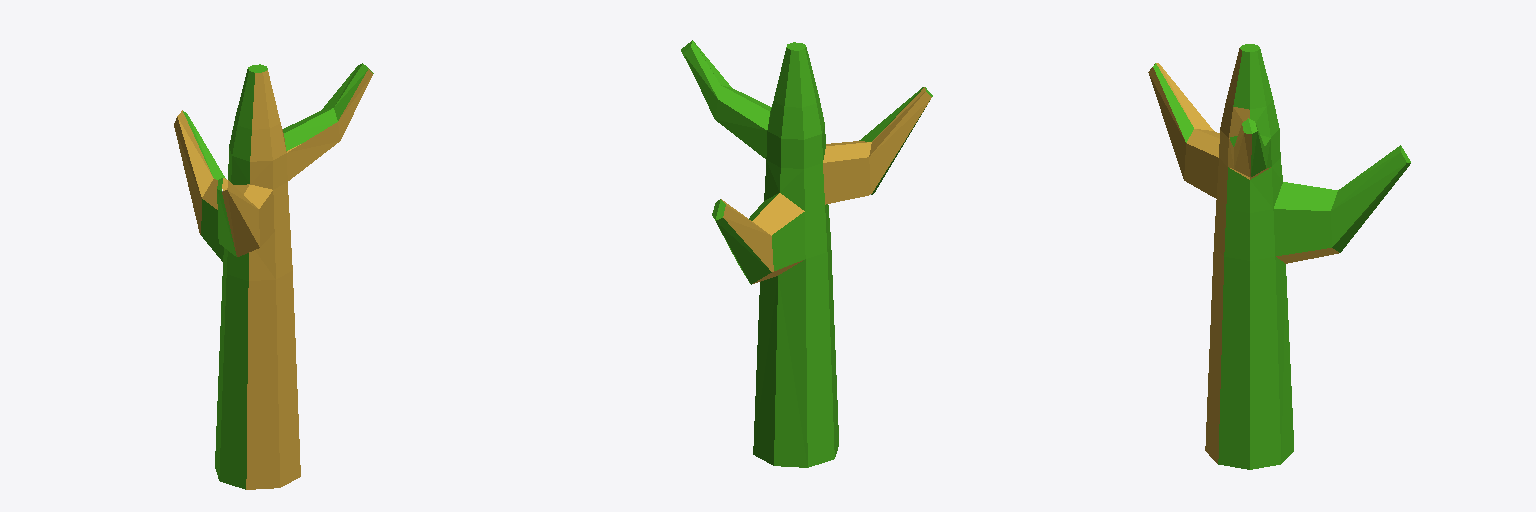
The picture shows the model from 3 angles: view 1: azimuth 30°, elevation 25°; view 2: azimuth 150°, elevation 25°; view 3: azimuth 270°, elevation 25°; orthographic projection.
Parts seen in each view (by area): view 1: Cylinder_Cylinder.001; view 2: Cylinder_Cylinder.001; view 3: Cylinder_Cylinder.001.
Boxes of the visible parts, x1,y1,x2,y2 form: Cylinder_Cylinder.001: [174, 63, 373, 489]; Cylinder_Cylinder.001: [681, 40, 932, 467]; Cylinder_Cylinder.001: [1148, 44, 1410, 469].
Size of the model in its own units: 5.25 by 9.98 by 5.91.
1 materials, 1 textured.